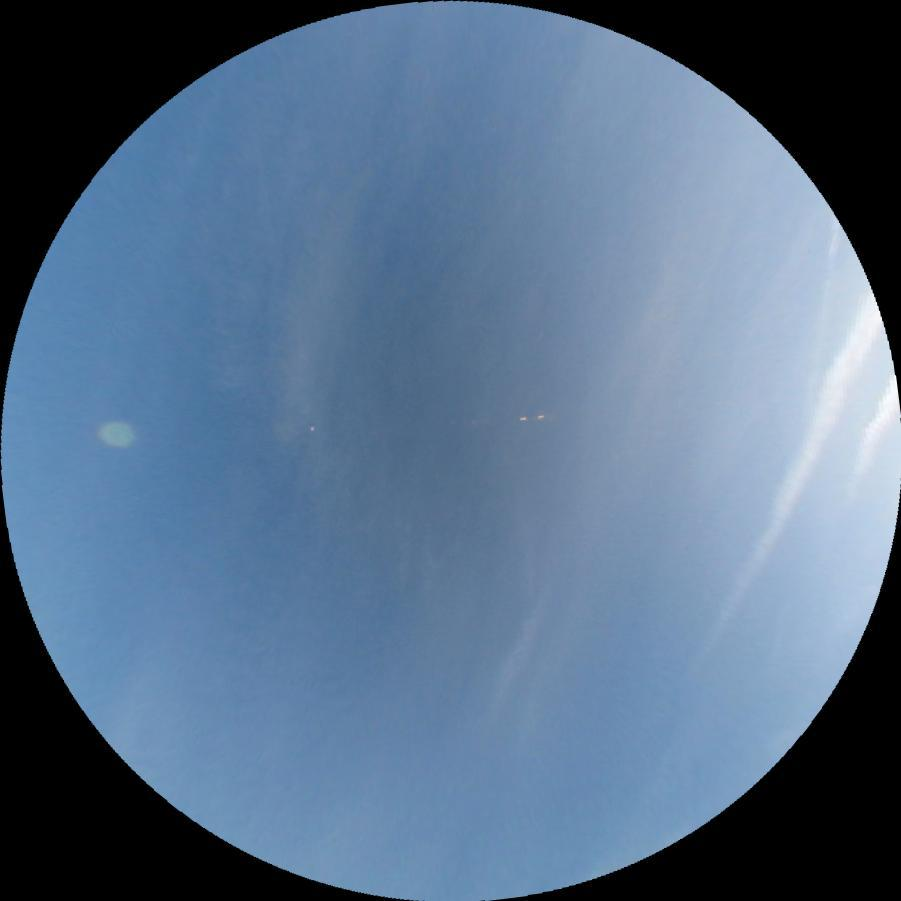contrail veryold: (676, 292, 894, 687)
unknow: (817, 220, 841, 337)
